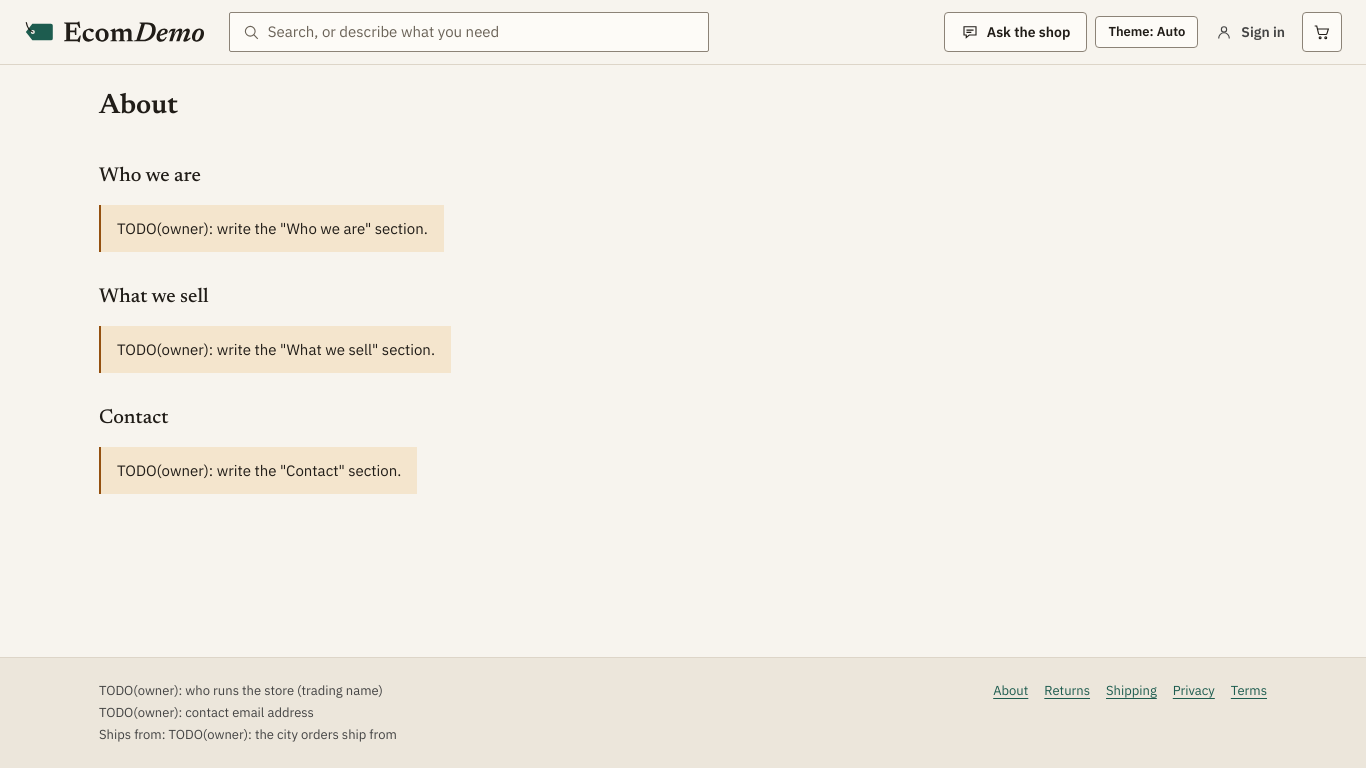
Test case: layout › sends a search from the header to /search with the words in the URL
The width and height of the screenshot is (1366, 768).
expect the heading "About" is shown: met, box [99,89,178,123]
Type "something to type on" into the dropdown named "Search products" at point(482, 32), box [268,13,696,51]
Then press Enter
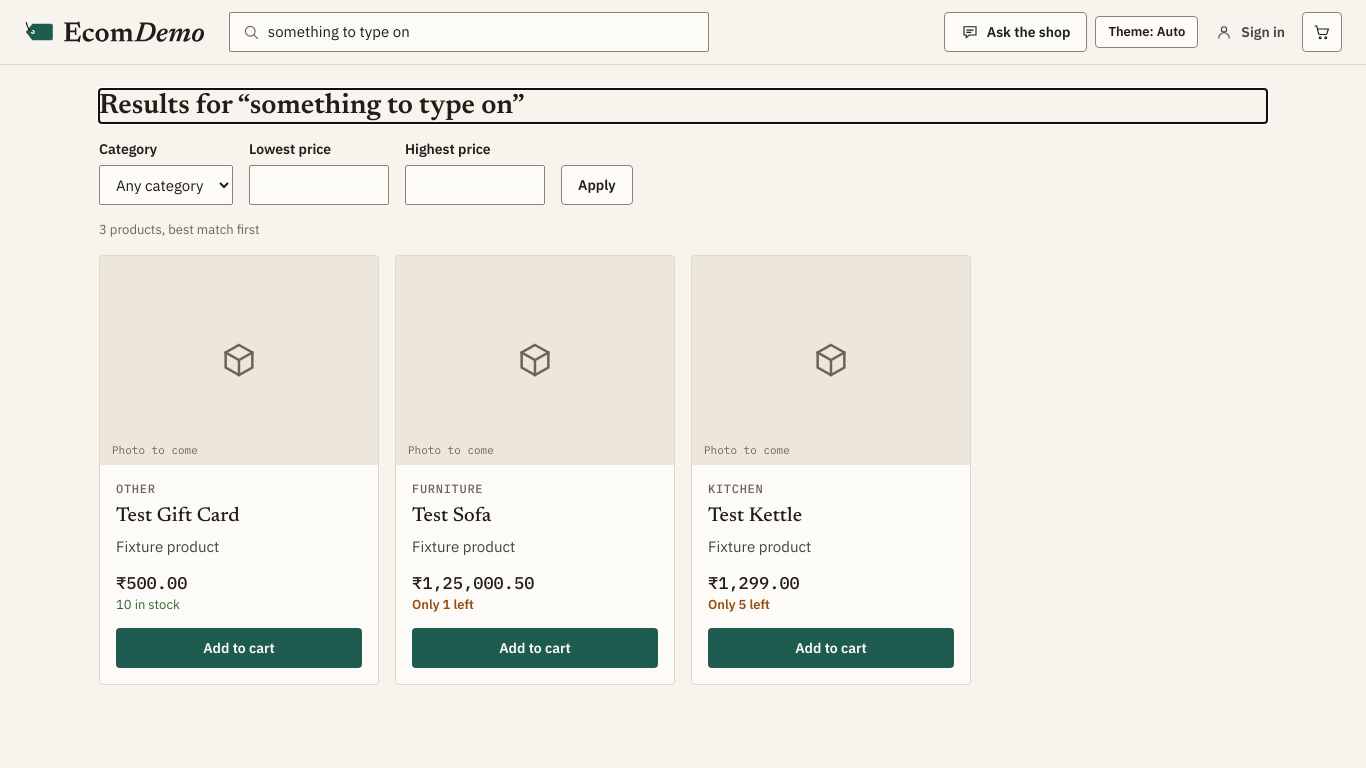
expect the heading "Results for “something to type on”" is shown: met, box [99,92,525,120]
